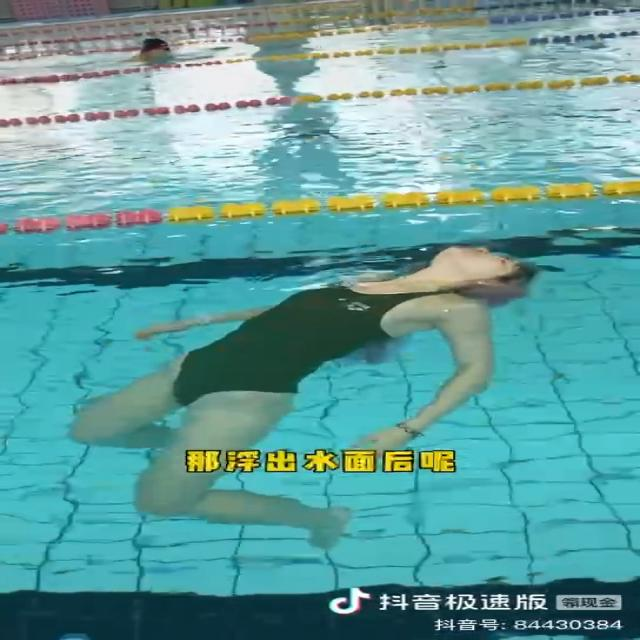Drowning: (71, 243, 541, 548)
